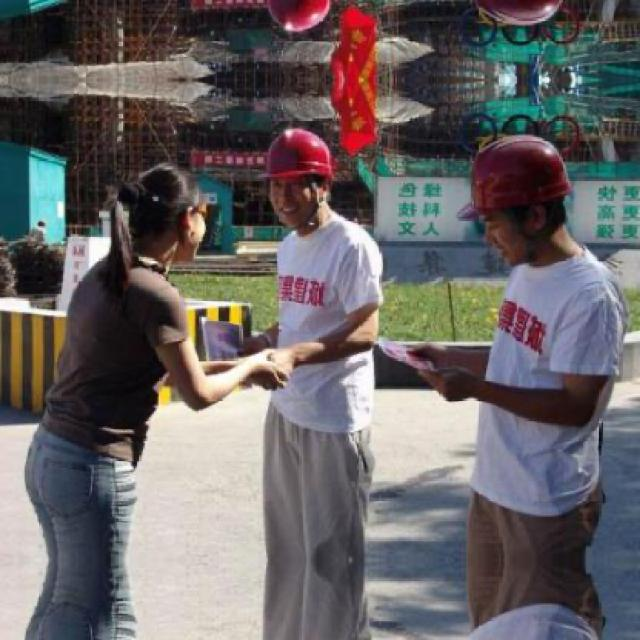con casco: (223, 103, 382, 279), (462, 124, 586, 286)
sin casco: (104, 154, 220, 286)
